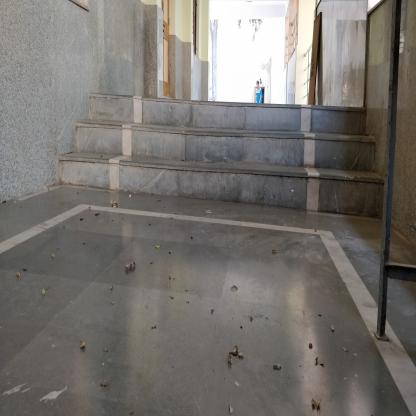stairs: (91, 104, 362, 194)
